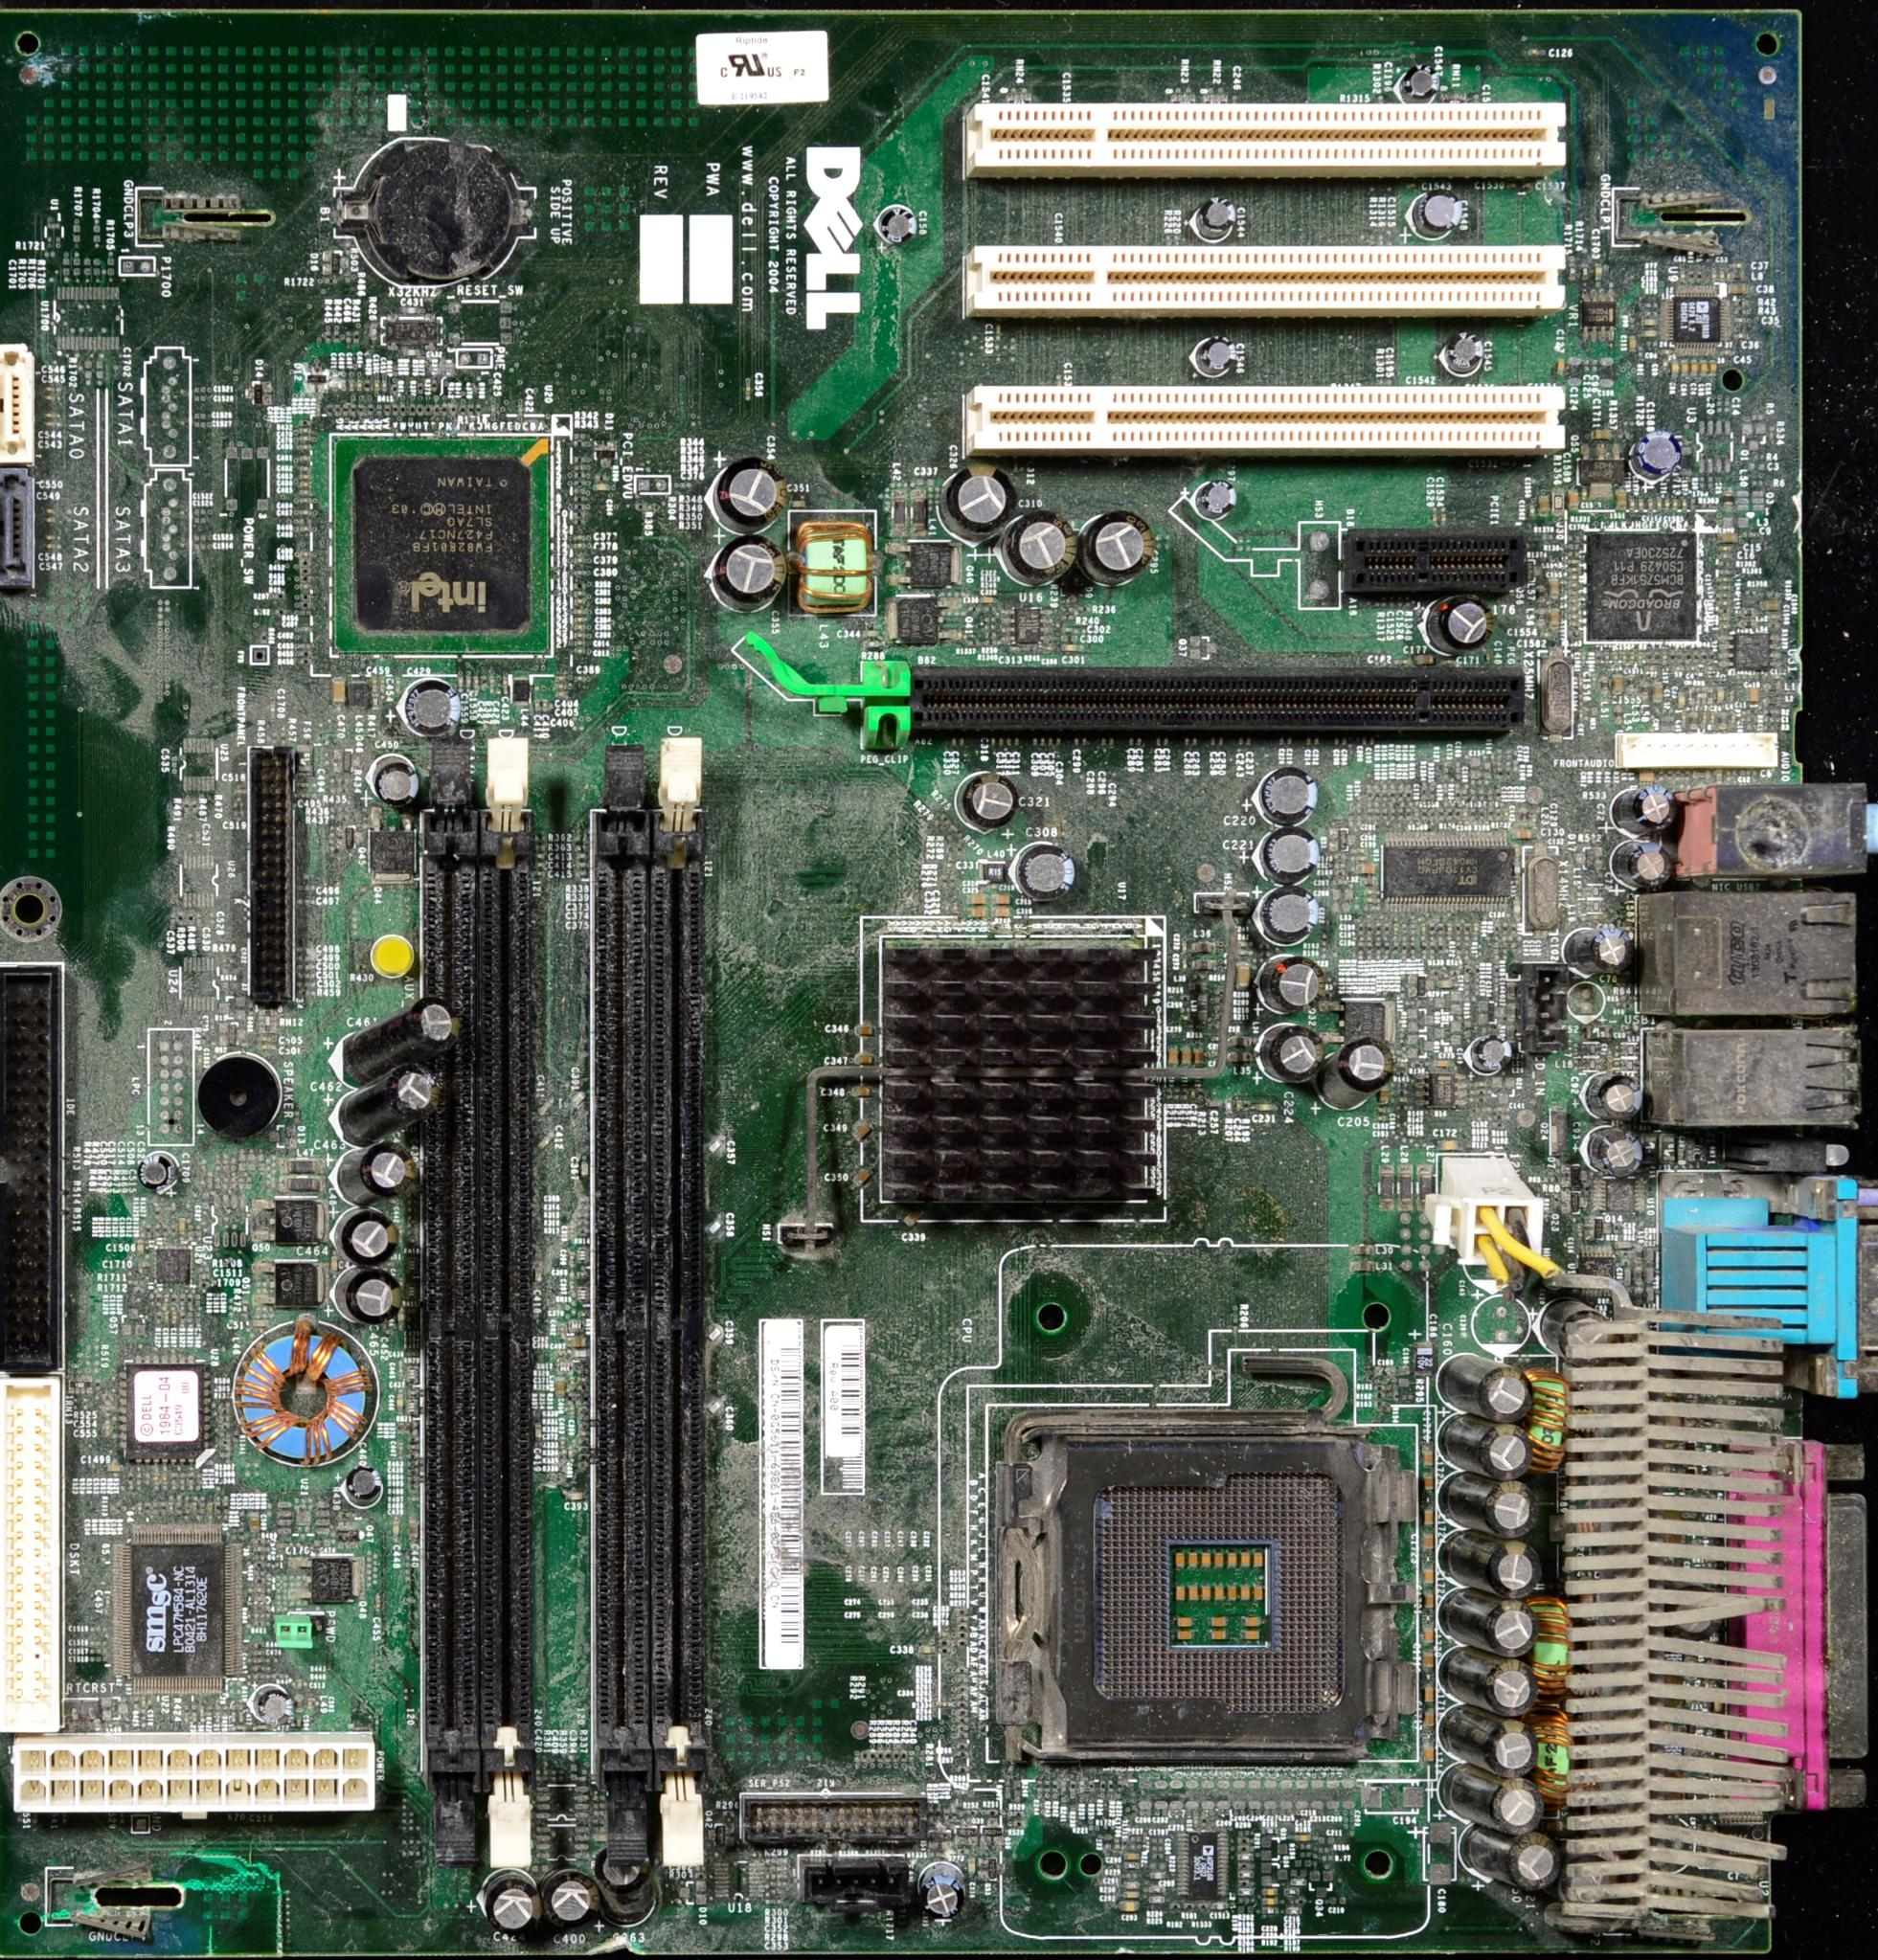Capacitor Jumper: (712, 451, 798, 534), (1008, 511, 1082, 588), (1082, 511, 1164, 577), (719, 539, 800, 604), (1559, 913, 1631, 982), (949, 458, 1015, 532), (1577, 1125, 1645, 1188), (355, 1132, 420, 1197), (338, 1267, 404, 1330), (336, 1202, 406, 1262), (1250, 955, 1327, 1008), (1612, 772, 1682, 828), (1430, 588, 1500, 644), (1257, 765, 1321, 824), (959, 765, 1019, 829), (385, 1055, 445, 1120), (1251, 826, 1318, 884), (1474, 1361, 1535, 1423), (403, 677, 464, 738), (1267, 1027, 1325, 1092), (1556, 1304, 1615, 1365), (1502, 1836, 1565, 1893), (1481, 1781, 1545, 1834), (1484, 1718, 1538, 1780), (1248, 882, 1313, 933), (1488, 1538, 1540, 1599), (919, 1869, 971, 1928), (1482, 1484, 1538, 1538), (1339, 1029, 1388, 1090), (1608, 842, 1671, 889), (1479, 1424, 1533, 1479), (1019, 843, 1069, 901), (1593, 1071, 1647, 1122), (369, 754, 422, 805), (1486, 1606, 1535, 1661), (1488, 1664, 1537, 1718), (1195, 472, 1243, 527), (1187, 192, 1243, 238), (1414, 182, 1468, 227), (411, 1001, 462, 1048), (1187, 339, 1243, 381), (1440, 324, 1488, 373), (1635, 436, 1685, 479), (875, 206, 928, 248), (345, 1459, 387, 1507), (1467, 1032, 1512, 1071), (249, 1690, 296, 1727), (135, 1155, 179, 1192), (1402, 65, 1433, 105), (508, 681, 530, 703), (1234, 961, 1251, 987), (72, 1407, 114, 1417), (963, 892, 992, 906), (1612, 487, 1626, 516), (851, 1050, 873, 1067), (331, 677, 345, 705), (963, 905, 989, 919), (854, 1022, 875, 1039), (989, 905, 1012, 920), (1535, 493, 1551, 516), (849, 1085, 873, 1099), (1713, 530, 1738, 544), (852, 1120, 870, 1139), (989, 892, 1012, 906), (1547, 607, 1559, 632), (1180, 1046, 1194, 1067), (60, 257, 70, 285), (1117, 1900, 1139, 1913), (852, 1171, 868, 1188), (1166, 1045, 1178, 1066), (249, 1510, 259, 1535), (1549, 576, 1559, 600), (1612, 672, 1622, 696), (1654, 681, 1664, 703), (1120, 1851, 1141, 1862), (1591, 430, 1612, 441), (1192, 1046, 1204, 1064), (1437, 1143, 1456, 1153), (1764, 600, 1783, 611), (103, 1465, 126, 1473), (1568, 485, 1577, 508), (1696, 357, 1706, 374), (1671, 357, 1680, 378), (1523, 47, 1544, 56), (102, 1421, 114, 1435), (1061, 642, 1080, 651), (1593, 264, 1603, 280), (268, 712, 278, 728), (1118, 1890, 1141, 1897), (1708, 359, 1717, 376), (1680, 359, 1687, 380), (1734, 317, 1750, 325), (1439, 508, 1447, 523), (861, 628, 877, 637), (1748, 688, 1757, 703), (1358, 864, 1377, 871), (1628, 334, 1635, 353), (1519, 828, 1531, 838), (1262, 1888, 1279, 1895), (343, 331, 352, 345), (1582, 359, 1591, 373), (1558, 359, 1565, 376), (571, 534, 588, 541), (949, 735, 957, 749), (576, 859, 586, 870), (919, 1647, 935, 1654), (1747, 283, 1757, 294), (593, 483, 609, 490), (40, 508, 56, 514), (40, 514, 56, 521), (571, 556, 586, 563), (980, 597, 996, 604), (555, 689, 565, 700), (340, 380, 348, 392), (1293, 1834, 1313, 1839), (532, 854, 546, 861), (1430, 508, 1437, 521), (572, 590, 586, 597), (1395, 595, 1402, 609), (42, 542, 60, 548), (574, 616, 585, 625), (373, 674, 378, 691), (1134, 737, 1143, 747), (938, 1631, 950, 1638), (1691, 355, 1694, 380), (331, 378, 338, 390), (373, 380, 380, 392), (572, 647, 585, 654), (957, 735, 964, 747), (1031, 735, 1038, 747), (1040, 737, 1047, 749), (1264, 1899, 1279, 1904), (42, 534, 58, 539), (571, 609, 586, 614), (534, 698, 539, 714), (534, 870, 544, 877), (576, 870, 586, 877), (1591, 359, 1596, 373), (348, 378, 354, 392), (1386, 597, 1393, 607), (572, 625, 583, 632), (268, 695, 275, 705), (541, 700, 548, 710), (1155, 735, 1162, 745), (1181, 737, 1188, 747), (1015, 735, 1020, 749), (569, 544, 588, 548), (576, 854, 588, 859), (383, 380, 389, 392), (298, 436, 310, 441), (299, 444, 312, 450), (298, 490, 310, 495), (574, 569, 586, 574), (572, 640, 585, 646), (1075, 737, 1080, 749), (989, 737, 994, 749), (998, 737, 1003, 749), (170, 924, 179, 931), (572, 632, 579, 640), (534, 861, 544, 866), (299, 481, 310, 487), (555, 675, 565, 681), (555, 682, 565, 688), (1047, 738, 1052, 749), (158, 941, 165, 948), (1127, 738, 1134, 745), (210, 768, 217, 775), (576, 600, 585, 605), (1192, 737, 1197, 745), (357, 378, 361, 390), (1006, 737, 1010, 749), (208, 831, 215, 836), (203, 910, 210, 915), (299, 429, 310, 432), (303, 474, 310, 479), (1162, 737, 1167, 744), (196, 826, 200, 835), (212, 922, 215, 931), (576, 675, 585, 679), (228, 913, 233, 919), (224, 815, 231, 819), (298, 467, 310, 469)
Connector: (9, 1713, 371, 1830), (961, 245, 1568, 313), (964, 103, 1566, 171), (966, 385, 1565, 450), (0, 1374, 75, 1741), (0, 966, 63, 1382), (233, 745, 303, 1017)
IC: (355, 457, 529, 632), (131, 1542, 222, 1673), (1670, 292, 1726, 348), (1187, 1832, 1222, 1897), (894, 597, 940, 644), (152, 1244, 198, 1288), (908, 542, 950, 588), (382, 320, 439, 345)
Resistor Jumper: (1412, 1344, 1433, 1375), (250, 644, 268, 663), (133, 1272, 154, 1286), (1227, 1311, 1237, 1339), (89, 259, 102, 282), (1568, 1192, 1580, 1213), (72, 257, 82, 280), (81, 259, 91, 282), (1365, 182, 1379, 198), (550, 1759, 558, 1783), (107, 257, 116, 282), (322, 325, 333, 345), (345, 749, 354, 772), (159, 1501, 172, 1517), (1437, 805, 1447, 822), (1565, 261, 1575, 278), (333, 250, 340, 275), (65, 1181, 74, 1200), (581, 1764, 590, 1783), (333, 324, 341, 343), (1491, 784, 1502, 800), (67, 346, 77, 362), (1059, 611, 1075, 621), (1594, 1216, 1601, 1239), (1365, 789, 1374, 807), (1181, 1087, 1190, 1104), (212, 1498, 221, 1515), (61, 1211, 72, 1225), (198, 1279, 212, 1290), (140, 1503, 151, 1517), (1580, 262, 1589, 278), (1374, 1381, 1384, 1393), (558, 1759, 564, 1783), (354, 962, 368, 971), (884, 1748, 893, 1762), (1122, 1864, 1139, 1871), (322, 276, 340, 283), (632, 502, 649, 509), (1402, 591, 1409, 609), (543, 1760, 548, 1783), (1195, 1090, 1201, 1111), (65, 1150, 72, 1165), (187, 1290, 193, 1311), (1012, 1809, 1027, 1816), (1236, 1844, 1251, 1851), (1733, 299, 1748, 306), (1733, 308, 1748, 315), (1369, 336, 1379, 346), (1076, 604, 1092, 611), (1390, 787, 1398, 800), (532, 843, 544, 852), (938, 1640, 950, 1648), (369, 324, 375, 343), (184, 800, 191, 814), (1453, 805, 1460, 819), (1069, 1781, 1076, 1795), (700, 1797, 714, 1804), (1236, 1837, 1250, 1844), (1237, 1879, 1251, 1886), (1227, 1097, 1232, 1115), (1243, 1099, 1248, 1116), (936, 1647, 947, 1655), (954, 1697, 964, 1706), (957, 1717, 968, 1725), (459, 406, 467, 416), (574, 457, 583, 467), (296, 651, 313, 656), (1173, 1087, 1180, 1099), (956, 1685, 968, 1692), (901, 1750, 908, 1762), (1036, 1780, 1043, 1792), (1108, 1780, 1115, 1792), (1050, 1780, 1057, 1792), (1012, 1822, 1024, 1829), (1239, 1862, 1251, 1869), (431, 380, 438, 392), (368, 404, 375, 416), (441, 404, 448, 416), (450, 404, 457, 416), (326, 406, 333, 418), (1043, 1780, 1048, 1795), (345, 241, 350, 257), (364, 376, 369, 392), (1376, 593, 1381, 609), (177, 913, 186, 922), (1376, 1402, 1384, 1410), (1405, 786, 1411, 800), (1166, 1087, 1171, 1101), (957, 1624, 968, 1631), (954, 1640, 968, 1645), (954, 1668, 968, 1673), (956, 1694, 970, 1699), (877, 1748, 882, 1762), (1117, 1780, 1122, 1794), (1089, 1783, 1096, 1794), (343, 402, 348, 416), (408, 406, 415, 416), (425, 406, 432, 416), (574, 511, 585, 518), (299, 558, 310, 565), (301, 565, 312, 572), (572, 583, 586, 588), (956, 1743, 968, 1748), (894, 1750, 900, 1762), (352, 331, 357, 343), (385, 404, 390, 416), (334, 404, 340, 416), (572, 472, 585, 478), (175, 833, 182, 842), (576, 845, 585, 852), (1376, 1393, 1384, 1400), (224, 1500, 228, 1517), (957, 1708, 966, 1715), (574, 439, 583, 446), (576, 502, 583, 511), (301, 574, 310, 581), (277, 591, 285, 598), (863, 642, 880, 646), (193, 800, 196, 815), (578, 835, 588, 840), (534, 835, 544, 840), (957, 1633, 968, 1638), (957, 1752, 968, 1757), (417, 383, 422, 394), (392, 383, 397, 394), (476, 404, 481, 415), (357, 404, 362, 415), (350, 406, 355, 416), (399, 406, 404, 416), (261, 632, 266, 642), (298, 658, 313, 661), (196, 924, 203, 931), (298, 990, 312, 994), (861, 1752, 866, 1760), (392, 406, 397, 415), (467, 406, 473, 415), (434, 406, 439, 415), (574, 479, 583, 485), (301, 593, 310, 598), (277, 609, 285, 614), (872, 1750, 875, 1762), (1101, 1781, 1104, 1794), (572, 520, 585, 523), (1456, 789, 1460, 800), (224, 805, 231, 810), (187, 915, 194, 920), (194, 938, 201, 943), (418, 404, 422, 413), (574, 497, 583, 500), (301, 604, 310, 607), (296, 810, 303, 814), (299, 817, 303, 824)
Transistor: (287, 1554, 366, 1606), (252, 1260, 322, 1309), (252, 1197, 324, 1244), (336, 1521, 364, 1547)
